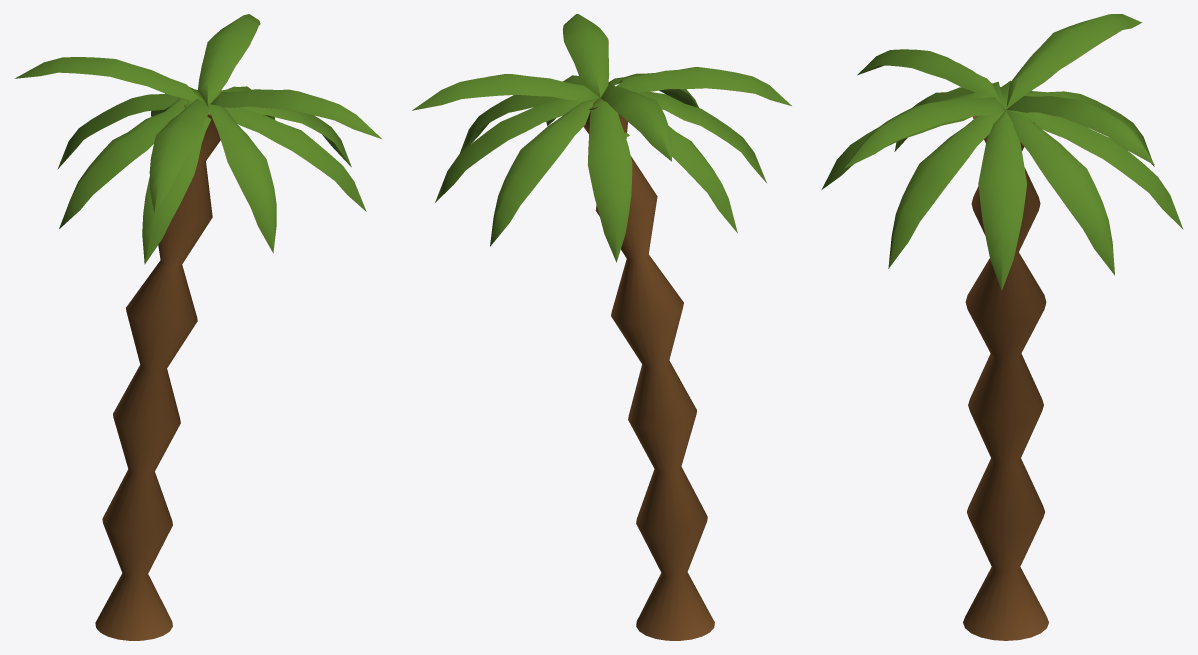
File: palmtreefbx.fbx
The picture shows the model from 3 angles, left to right: view 1: azimuth 30°, elevation 25°; view 2: azimuth 150°, elevation 25°; view 3: azimuth 270°, elevation 25°; orthographic projection. The views are drawn at different scales.
Parts seen in each view (by area): view 1: bend1Handle3; view 2: bend1Handle3; view 3: bend1Handle3.
Part boxes in pixels (x1,y1,x2,y2): bend1Handle3: [14, 14, 382, 640]; bend1Handle3: [412, 14, 791, 640]; bend1Handle3: [821, 14, 1183, 640].
Bounding box in the file's own units: 0.7323 × 1.33 × 0.7315.
